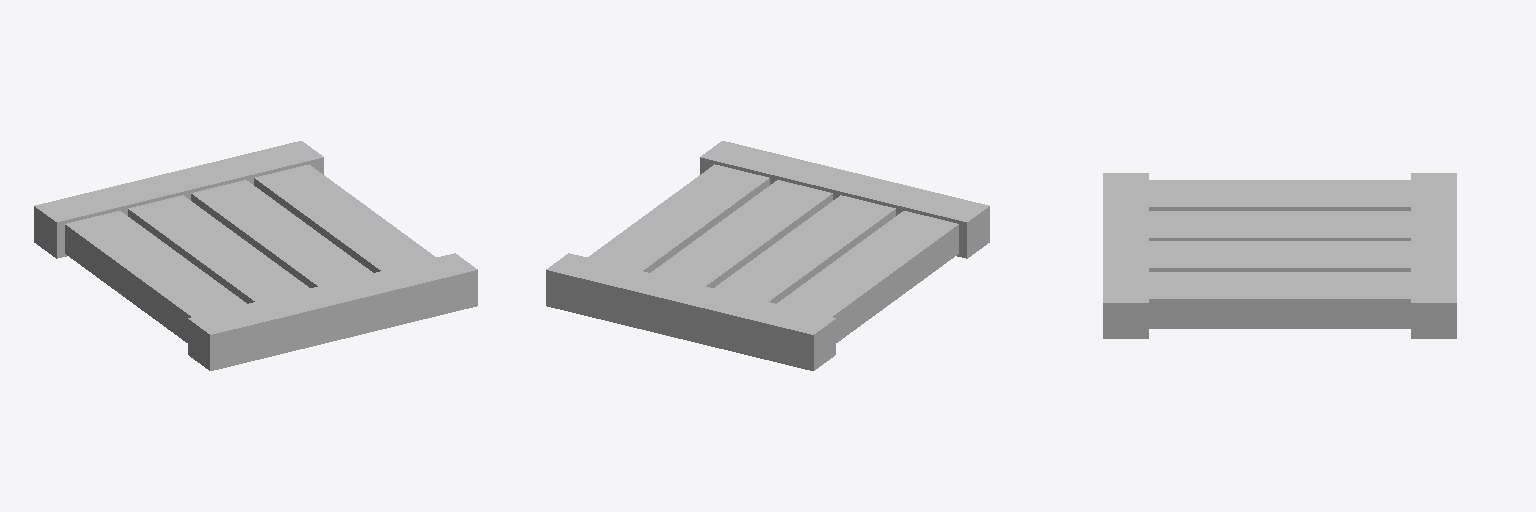
File: Option1_P.obj
3 renders of one model, left to right at view 1: azimuth 30°, elevation 25°; view 2: azimuth 150°, elevation 25°; view 3: azimuth 270°, elevation 25°, orthographic.
Parts seen in each view (by area): view 1: Cube.017; view 2: Cube.017; view 3: Cube.017.
Part boxes in pixels (bbox=[...]): Cube.017: bbox=[34, 141, 477, 370]; Cube.017: bbox=[546, 141, 989, 370]; Cube.017: bbox=[1103, 173, 1456, 338].
Bounding box in the file's own units: 1.93 × 0.2508 × 2.21.